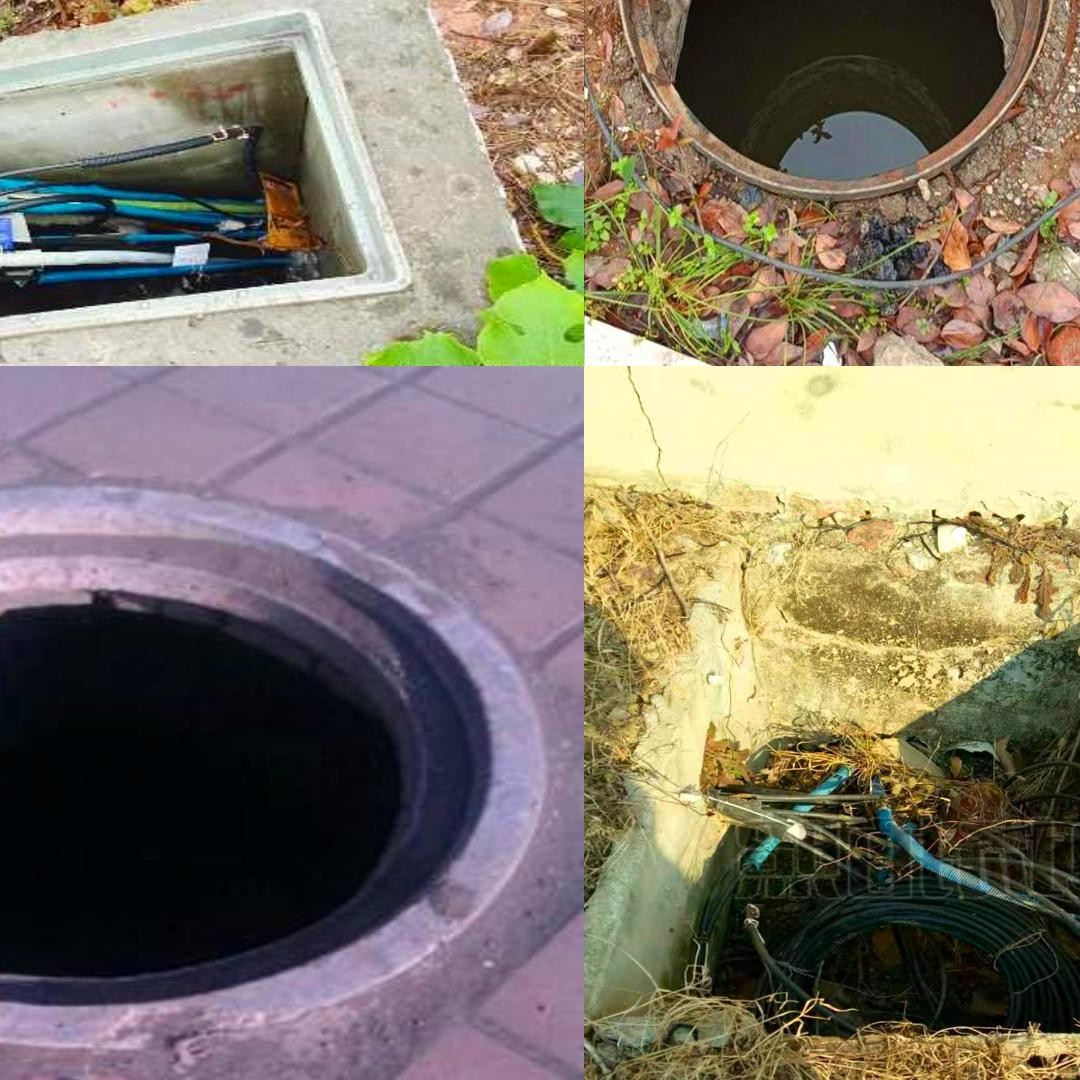lose: (0, 466, 557, 1050), (584, 552, 1080, 1044), (0, 7, 413, 360), (607, 0, 1064, 204)
